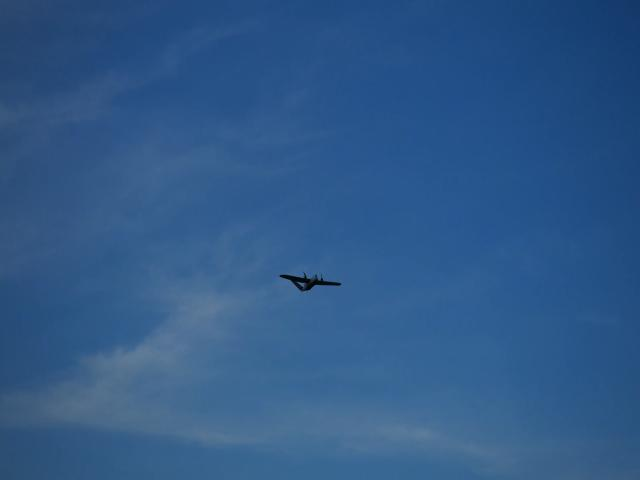plane: (278, 271, 342, 293)
